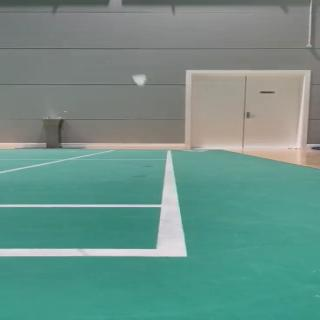Shuttle: (131, 74, 148, 86)
